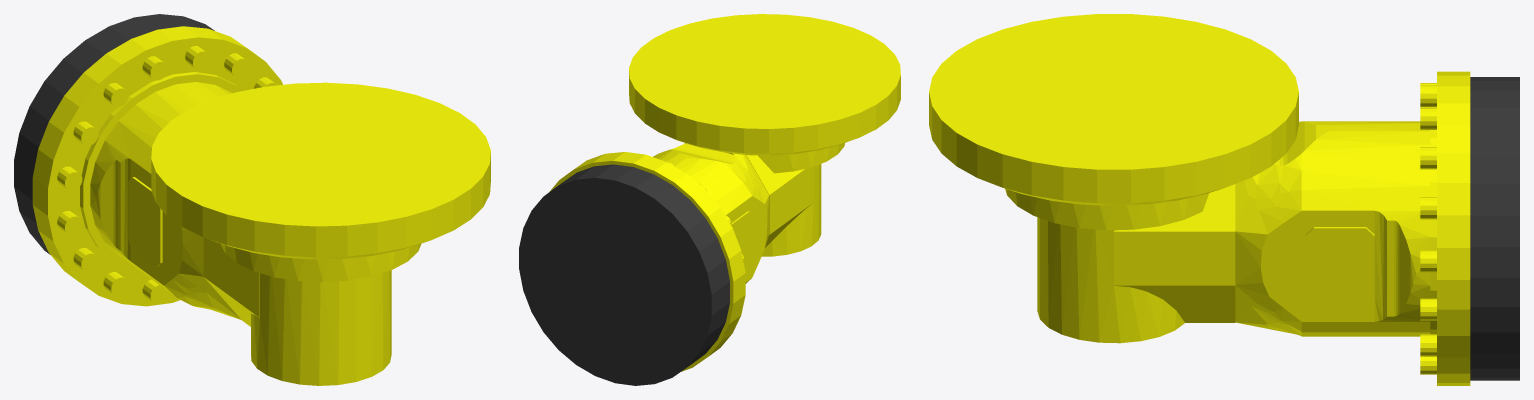
3 views of the same model, side by side, from view 1: azimuth 30°, elevation 25°; view 2: azimuth 150°, elevation 25°; view 3: azimuth 270°, elevation 25° (orthographic). The views are drawn at different scales.
Visible parts, largest first — view 1: node; view 2: node; view 3: node.
Part boxes in pixels (box(x1,y1,x2,y2)): node: box(14, 14, 490, 385); node: box(519, 14, 900, 385); node: box(929, 14, 1519, 385).
Bounding box in the file's own units: 212 × 181 × 340.
